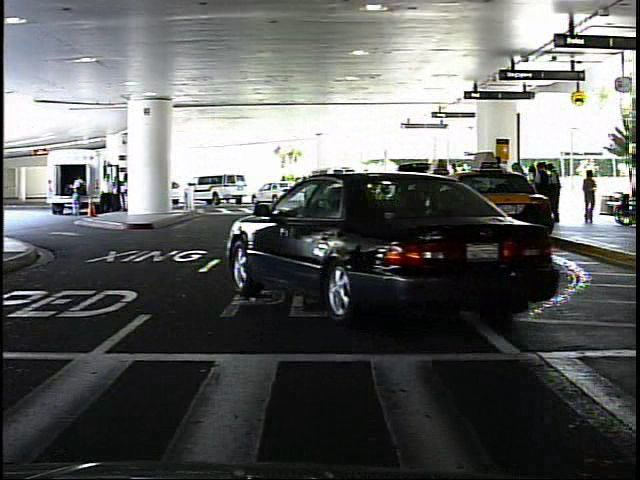person: (356, 165, 380, 220), (580, 165, 599, 228)
